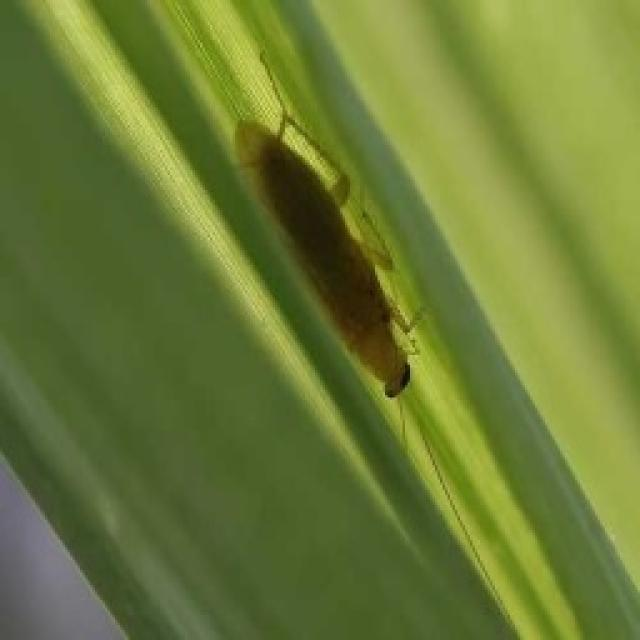cockroach: (218, 94, 443, 414)
